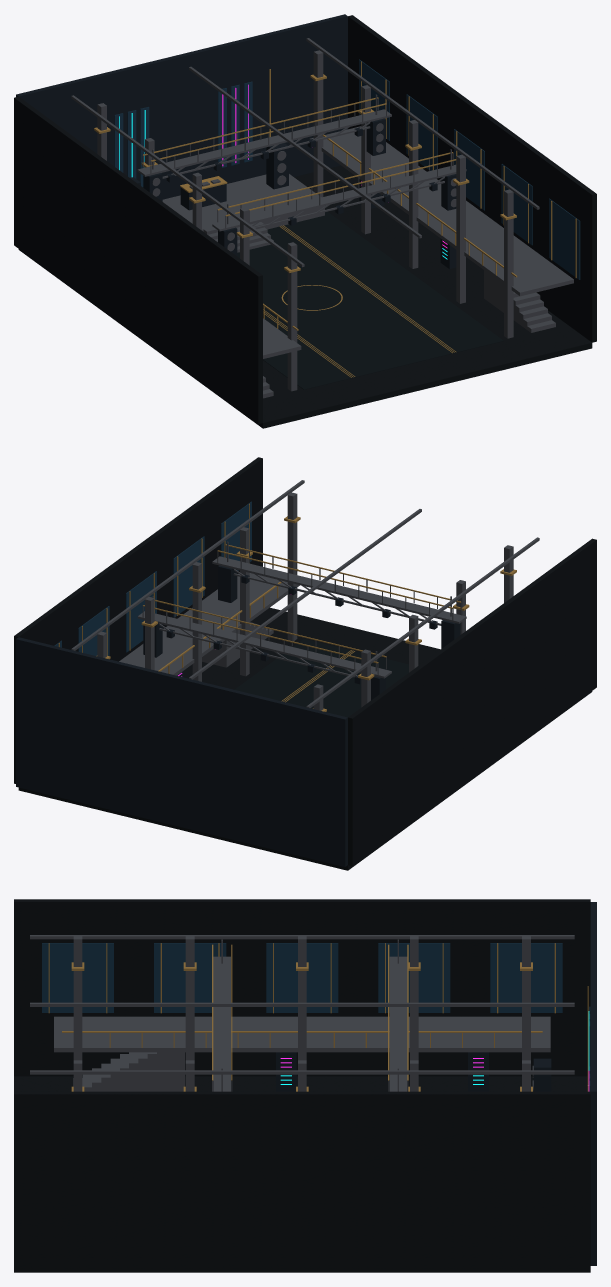
Rendered from club_08c5.glb.
3 views of the same model, one above another, from view 1: azimuth 30°, elevation 25°; view 2: azimuth 150°, elevation 25°; view 3: azimuth 270°, elevation 25° (orthographic). The views are drawn at different scales.
Visible parts, largest first — view 1: Pared izquierda, Pared escenario, Pista principal, Suelo continuo, Pared derecha, Balcón lateral (×2), Pilar industrial (×6), Panel cristal (×5), Pasarela transversal (×2), Viga longitudinal (×3), Escenario, Panel escenario (×3) (+2 smaller); view 2: Pared escenario, Pared izquierda, Pared derecha, Suelo continuo, Pista principal, Pasarela transversal (×2), Panel cristal (×4), Balcón lateral, Pilar industrial (×4), Viga longitudinal (×3), Caja de altavoz; view 3: Pared derecha, Pared izquierda, Panel cristal (×5), Balcón lateral, Suelo continuo, Viga longitudinal (×3), Pilar industrial (×5), Pasarela transversal (×2), Pared escenario, Armario técnico (×2), Pasamanos balcón, Caja de altavoz.
Boxes of the visible parts, bbox=[...] form: Pared izquierda: bbox=[14, 96, 262, 423]; Pared escenario: bbox=[16, 14, 347, 199]; Pista principal: bbox=[237, 211, 503, 389]; Suelo continuo: bbox=[18, 165, 592, 428]; Pared derecha: bbox=[348, 15, 596, 342]; Balcón lateral (×2): bbox=[263, 126, 573, 358]; Pilar industrial (×6): bbox=[287, 50, 513, 391]; Panel cristal (×5): bbox=[359, 59, 580, 279]; Pasarela transversal (×2): bbox=[137, 109, 466, 231]; Viga longitudinal (×3): bbox=[71, 38, 539, 267]; Escenario: bbox=[162, 174, 324, 231]; Panel escenario (×3): bbox=[127, 81, 252, 178]; Pared escenario: bbox=[16, 637, 347, 866]; Pared izquierda: bbox=[348, 538, 596, 866]; Pared derecha: bbox=[14, 457, 262, 783]; Suelo continuo: bbox=[18, 607, 592, 870]; Pista principal: bbox=[234, 639, 408, 717]; Pasarela transversal (×2): bbox=[137, 556, 466, 678]; Panel cristal (×4): bbox=[78, 501, 251, 656]; Balcón lateral: bbox=[119, 573, 299, 675]; Pilar industrial (×4): bbox=[145, 492, 297, 681]; Viga longitudinal (×3): bbox=[71, 480, 539, 707]; Caja de altavoz: bbox=[218, 565, 237, 602]; Pared derecha: bbox=[14, 1091, 590, 1268]; Pared izquierda: bbox=[14, 899, 590, 1076]; Panel cristal (×5): bbox=[42, 943, 562, 1012]; Balcón lateral: bbox=[54, 1016, 550, 1052]; Suelo continuo: bbox=[14, 1076, 590, 1272]; Viga longitudinal (×3): bbox=[30, 935, 574, 1074]; Pilar industrial (×5): bbox=[73, 936, 530, 1060]; Pasarela transversal (×2): bbox=[213, 956, 407, 1091]; Pared escenario: bbox=[590, 902, 596, 1265]; Armario técnico (×2): bbox=[276, 1052, 488, 1091]; Pasamanos balcón: bbox=[62, 1031, 542, 1032]; Caja de altavoz: bbox=[533, 1058, 551, 1091].
Bounding box in the file's own units: 28.8 × 12.46 × 36.4.
8 materials, 2 textured.
